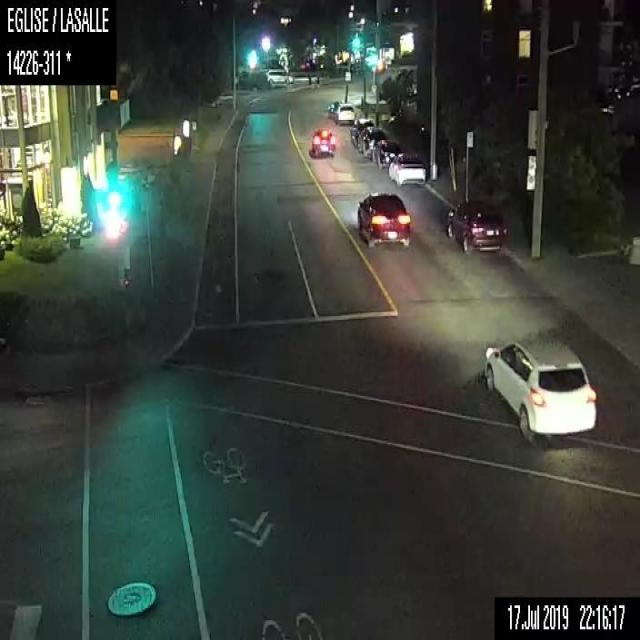vehicle: (482, 334, 597, 438), (442, 198, 509, 254), (354, 190, 410, 246), (388, 152, 426, 187), (370, 138, 400, 166), (357, 125, 383, 156), (349, 116, 375, 147), (310, 125, 335, 156), (264, 68, 294, 85), (335, 102, 355, 124), (328, 100, 342, 117)
